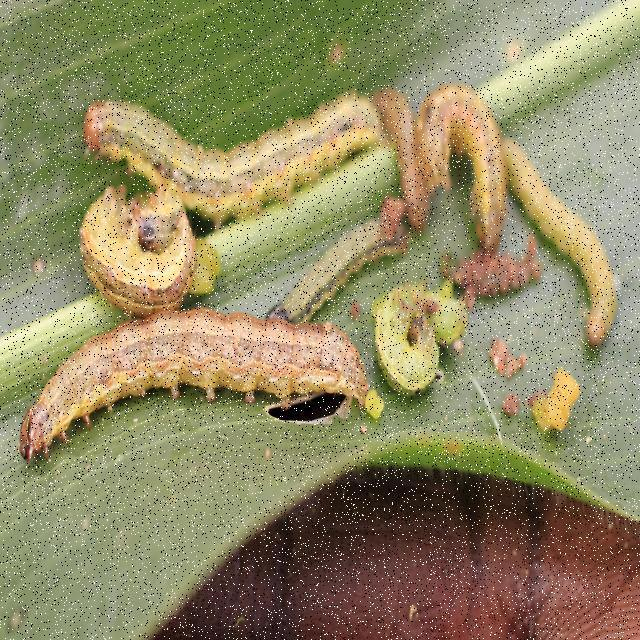army worm: (12, 322, 382, 492), (250, 172, 453, 404), (61, 75, 371, 221), (487, 76, 625, 373), (369, 37, 517, 227), (67, 186, 224, 356)
